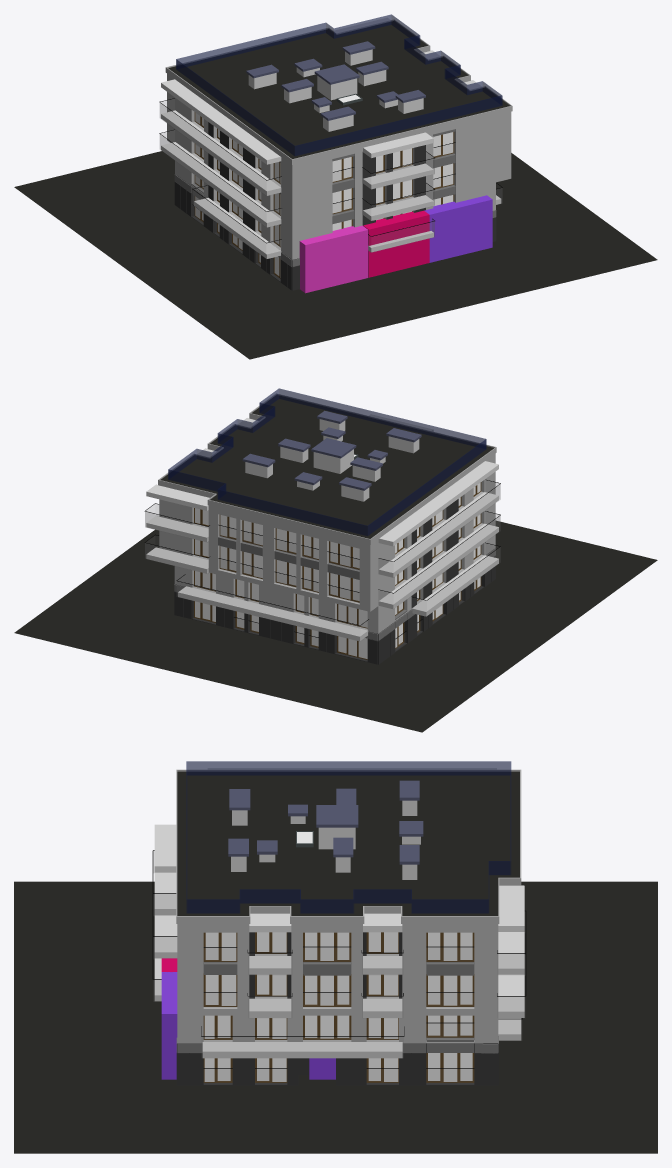
Rendered from dogbl.glb.
The picture shows the model from 3 angles, top to bottom: view 1: azimuth 30°, elevation 25°; view 2: azimuth 150°, elevation 25°; view 3: azimuth 270°, elevation 25°; orthographic projection. The views are drawn at different scales.
Visible parts, largest first — view 1: B, Cube.008, Cube.009, Cube.007; view 2: B; view 3: B, Cube.009, Cube.003.
Boxes of the visible parts, bbox=[...] form: B: bbox=[14, 14, 657, 359]; Cube.008: bbox=[299, 225, 368, 293]; Cube.009: bbox=[424, 195, 492, 262]; Cube.007: bbox=[363, 210, 429, 277]; B: bbox=[14, 388, 657, 732]; B: bbox=[14, 761, 657, 1153]; Cube.009: bbox=[161, 972, 177, 1079]; Cube.003: bbox=[309, 1058, 335, 1079].
Bounding box in the file's own units: 35.42 × 13.85 × 35.42.
